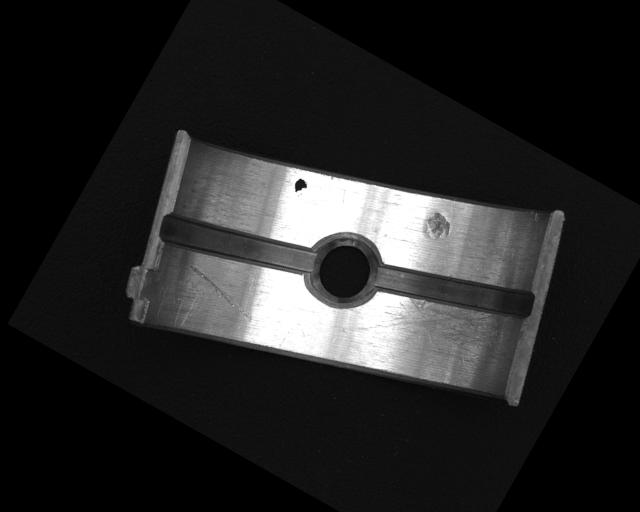blot: (289, 175, 310, 198)
bruise: (415, 206, 456, 247)
gap: (369, 222, 538, 360), (154, 177, 321, 312)
hole: (297, 224, 391, 318)
nick: (178, 262, 261, 322)
scratch: (355, 256, 525, 401)
